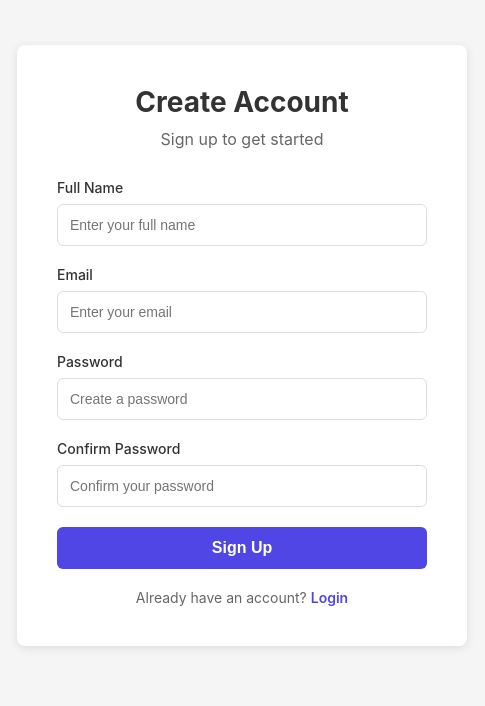
Scenario: Signup Component › should validate all required fields
Click the button "Sign Up": (242, 548) [57,526,427,568]
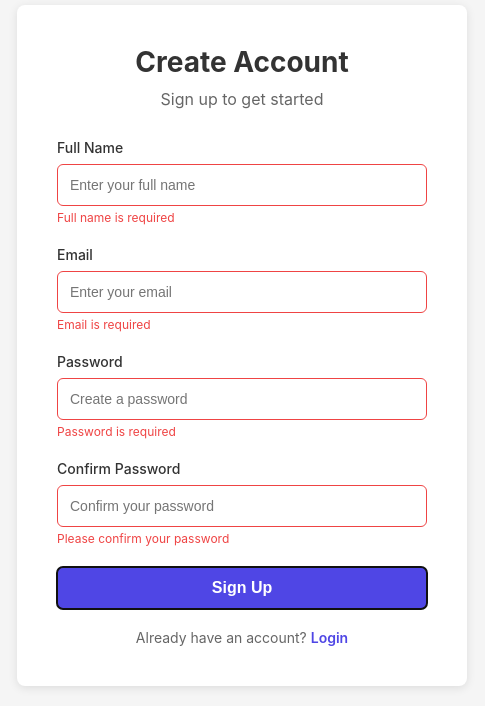
Check: the text "Full name is required" is shown, box [57,210,175,224]
Check: the text "Email is required" is shown, box [57,316,151,332]
Check: the text "Password is required" is shown, box [57,424,176,438]
